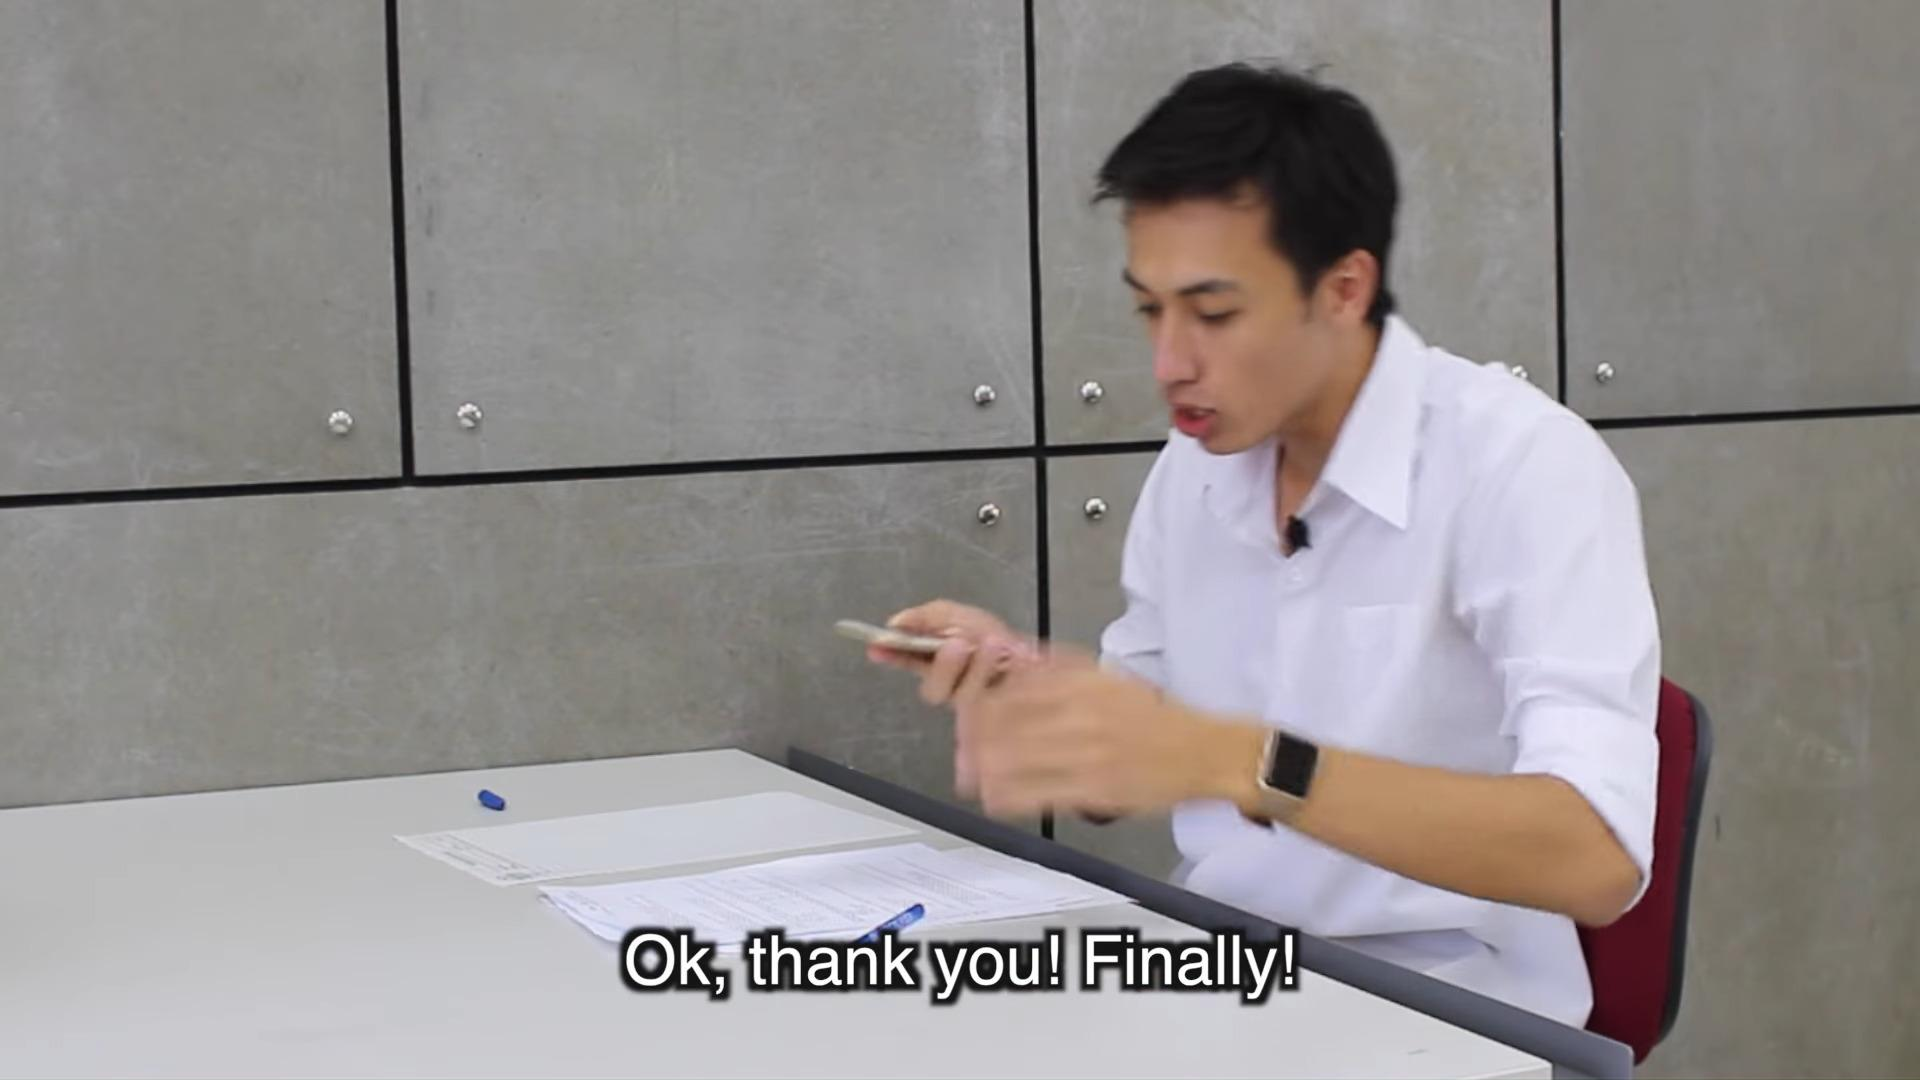cheating: (371, 41, 1680, 915)
